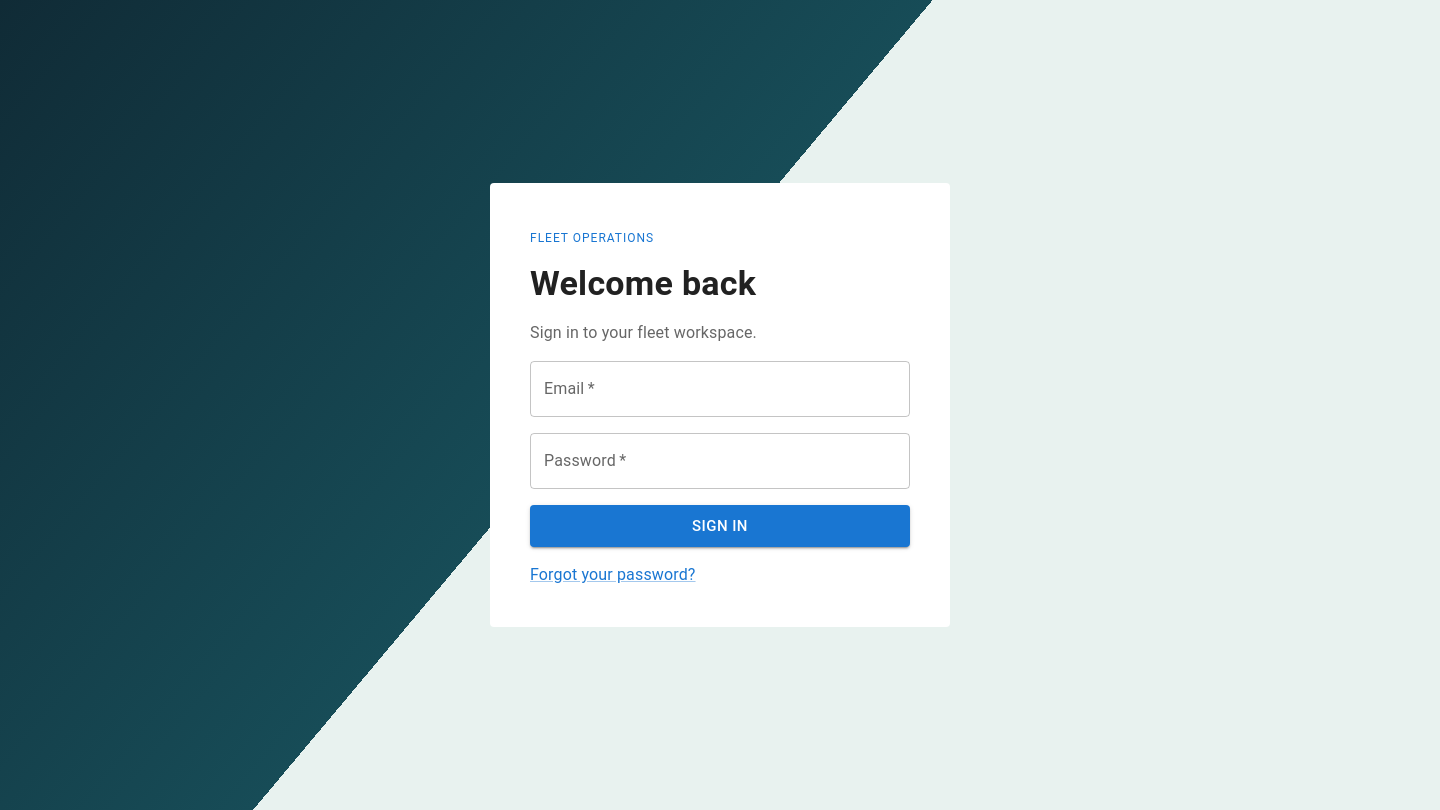
Test: Authentication experience › signs in, stores the tab session and displays the correct role landing page
The width and height of the screenshot is (1440, 810).
Expected: the heading "Welcome back" is shown, [530,263,756,303]
Type "owner@fleet.example" into the field labelled "Email".
click(720, 389); type("owner@fleet.example")  # box [530,361,910,417]
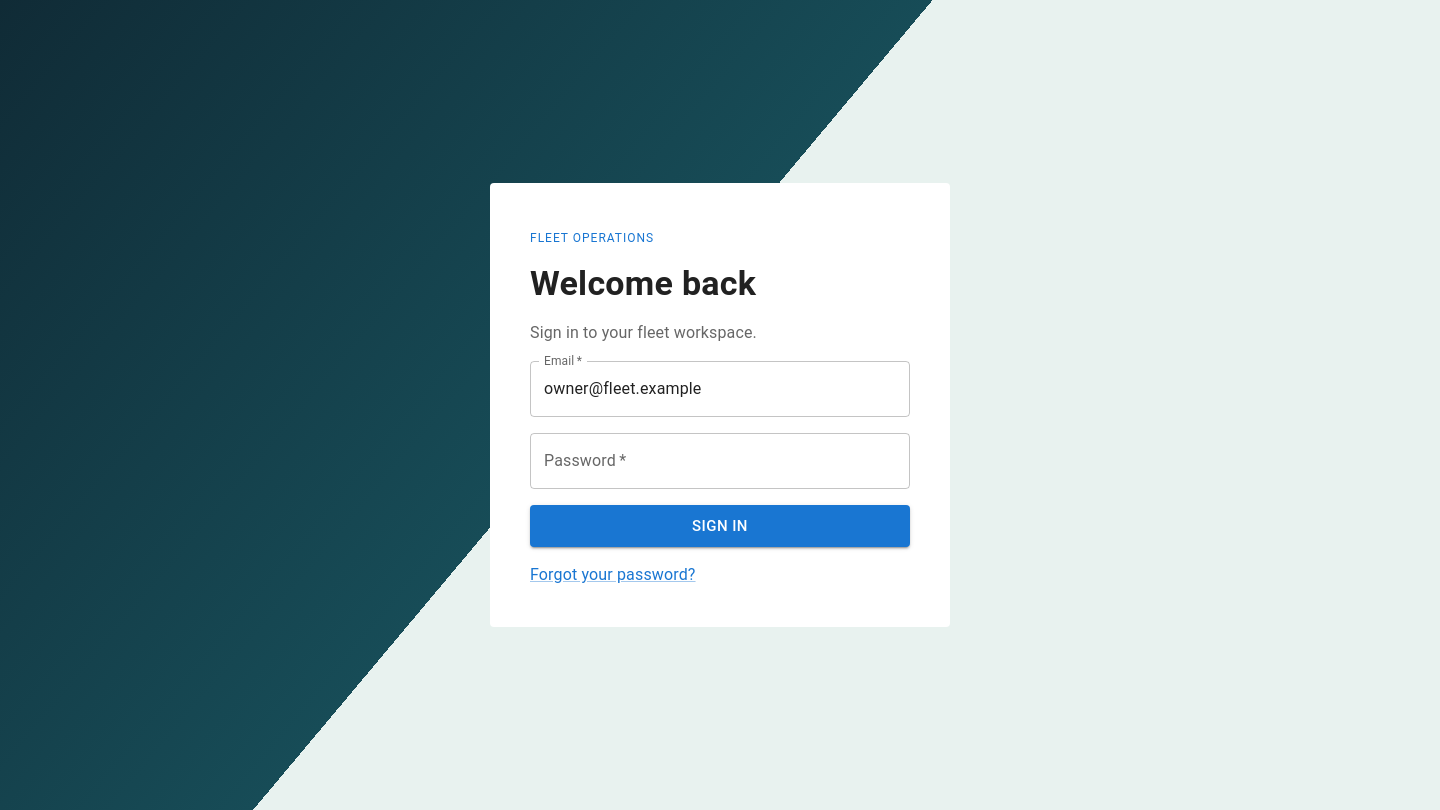
Type "FictionalPassword!42" into the password field labelled "Password".
click(720, 461); type("FictionalPassword!42")  # box [530,433,910,489]
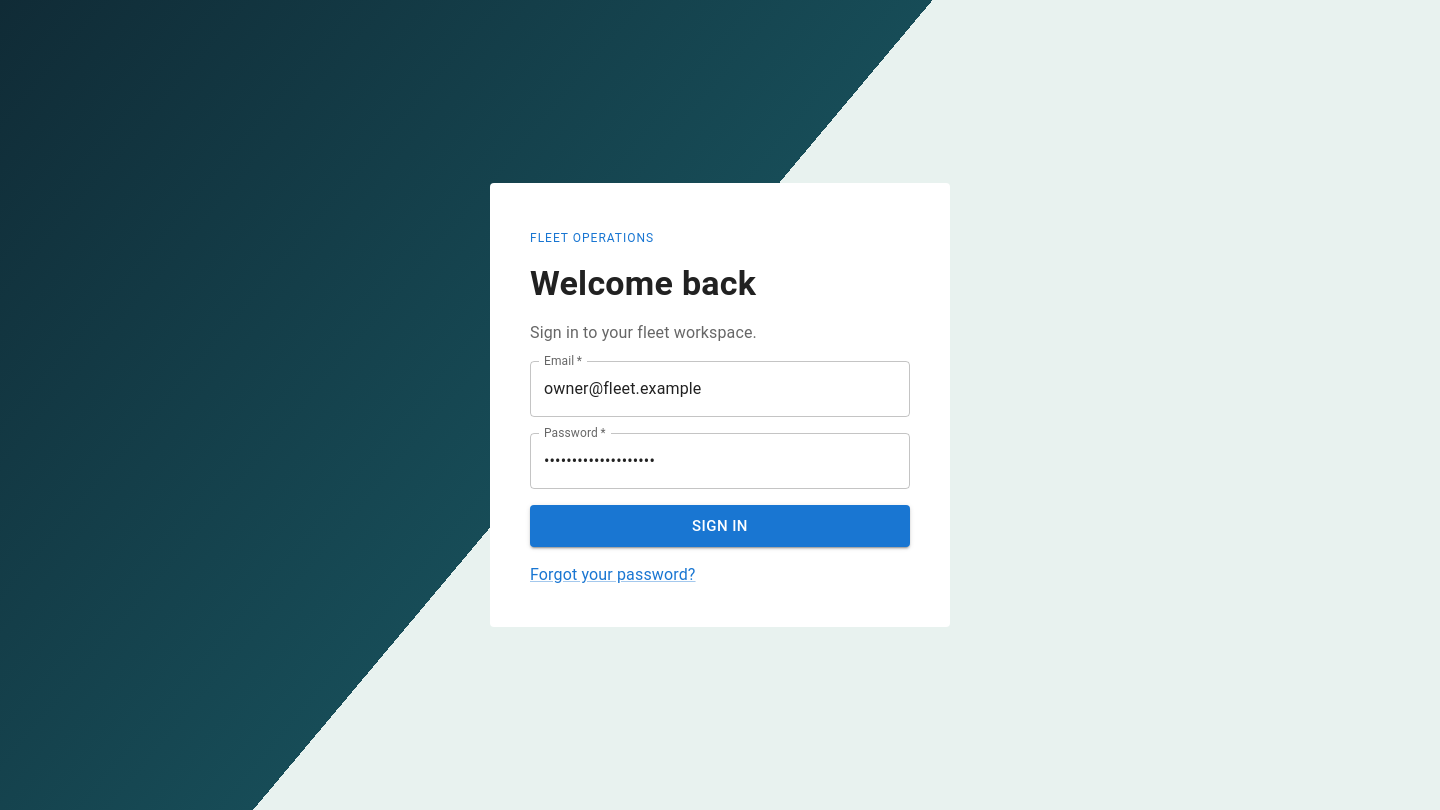
Click the button "Sign in".
click(720, 526)  # box [530,505,910,547]
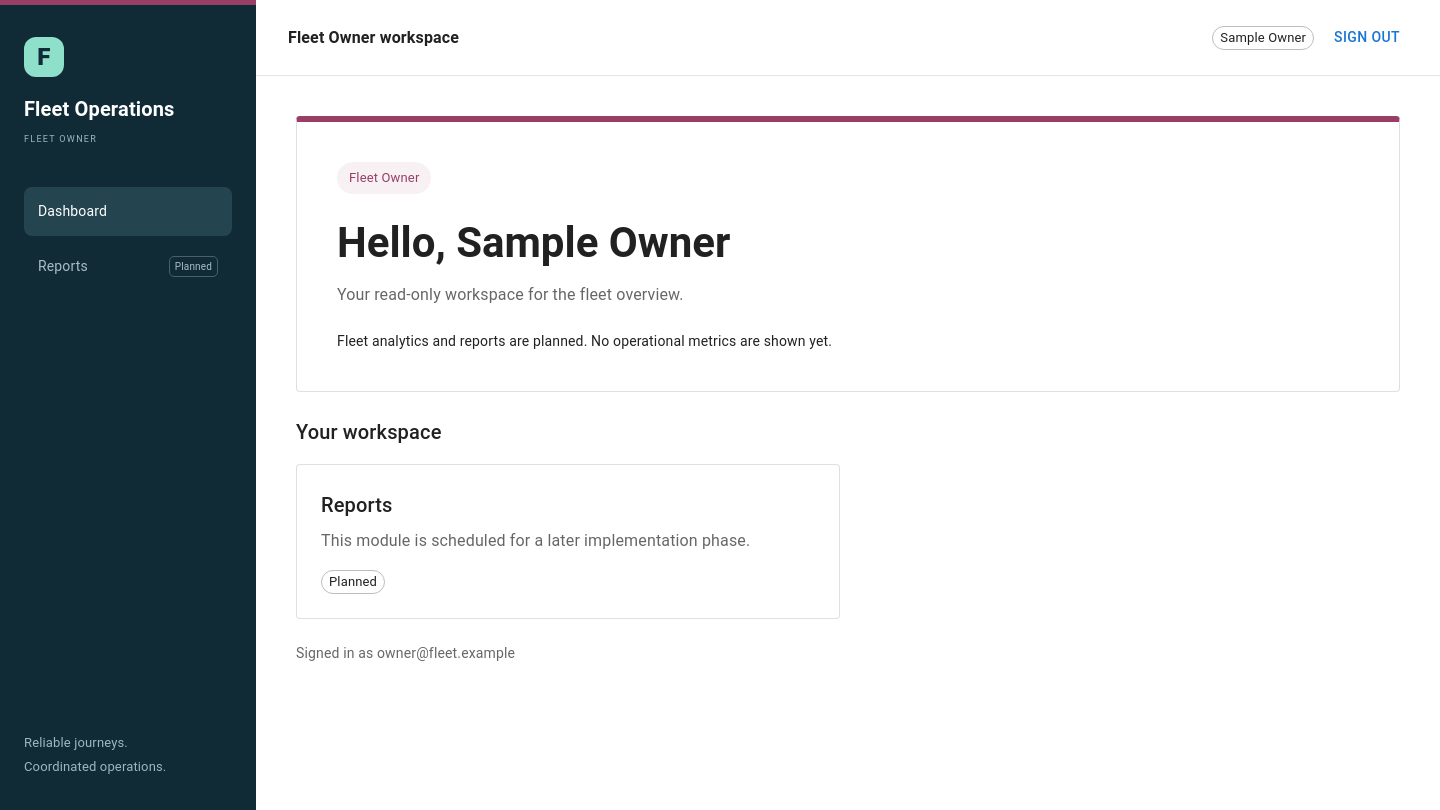
Now the heading "Hello, Sample Owner" is shown, box [337,218,730,267]
